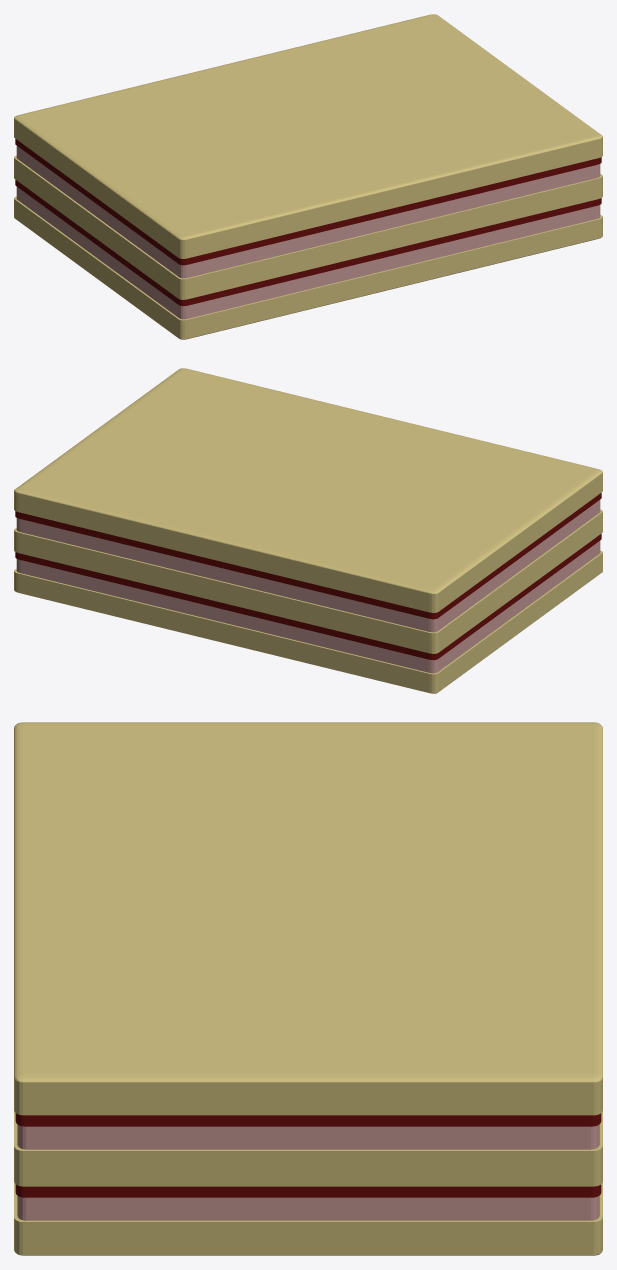
Rendered from sheet_9x13.glb.
The picture shows the model from 3 angles, top to bottom: view 1: azimuth 30°, elevation 25°; view 2: azimuth 150°, elevation 25°; view 3: azimuth 270°, elevation 25°; orthographic projection. The views are drawn at different scales.
Parts seen in each view (by area): view 1: 9x13_Cake, 9x13_Frosting, 9x13_Filling; view 2: 9x13_Cake, 9x13_Frosting, 9x13_Filling; view 3: 9x13_Cake, 9x13_Frosting, 9x13_Filling.
Part boxes in pixels (box(x1,y1,x2,y2)): 9x13_Cake: box(14, 14, 602, 339); 9x13_Frosting: box(16, 146, 600, 319); 9x13_Filling: box(15, 139, 601, 306); 9x13_Cake: box(14, 368, 602, 693); 9x13_Frosting: box(16, 500, 600, 673); 9x13_Filling: box(15, 493, 601, 660); 9x13_Cake: box(14, 722, 602, 1255); 9x13_Frosting: box(17, 1124, 599, 1220); 9x13_Filling: box(15, 1113, 601, 1197).
Size of the model in its own units: 26 by 6 by 18.
